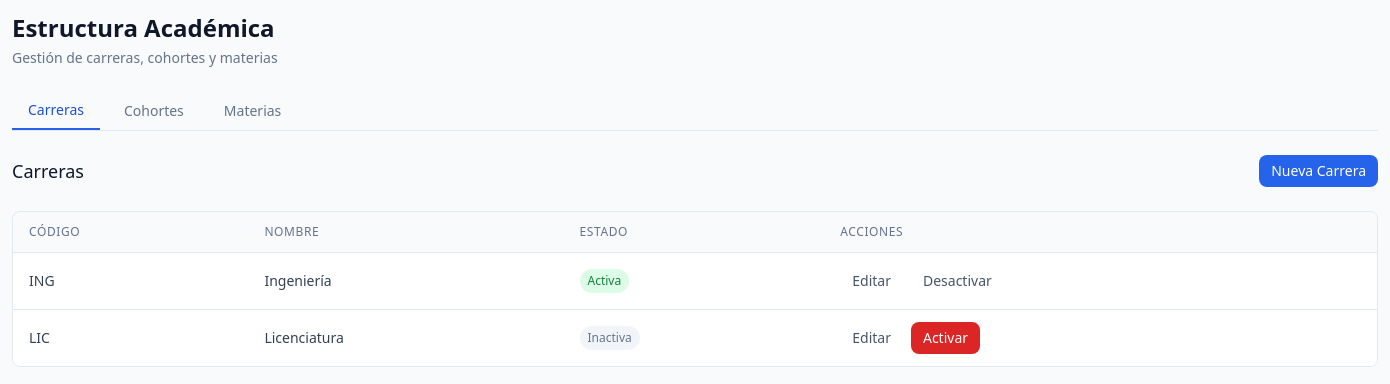
EstructuraAcademicaPage › cambia a tab Materias y muestra lista
The width and height of the screenshot is (1390, 384).
Check: the button "Carreras" is shown, box [12,92,100,130]
Click the button "Materias" at (253, 111), box [208,92,297,130]
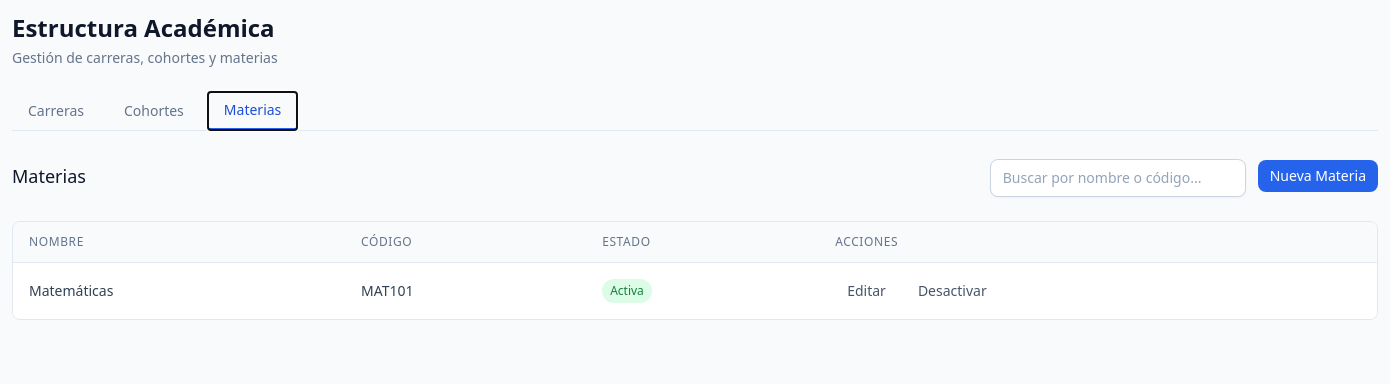
Check: the text "Matemáticas" is shown, box [13,262,345,319]
